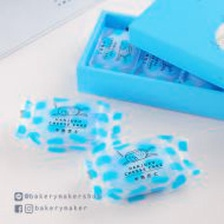snack: (68, 0, 223, 126), (77, 128, 207, 208), (6, 91, 130, 159)
